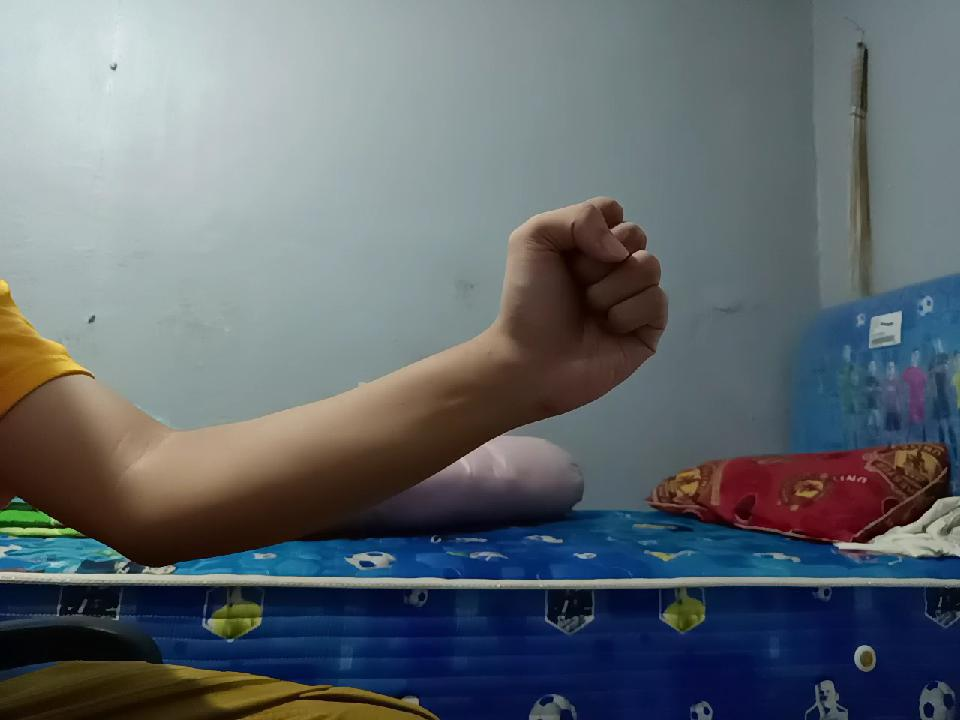rock: (489, 174, 680, 420)
